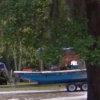Boat: (9, 59, 100, 87)
